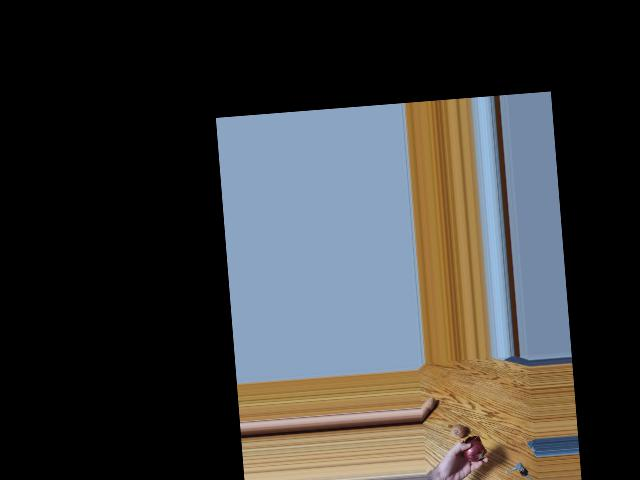onion: (464, 440, 485, 460)
